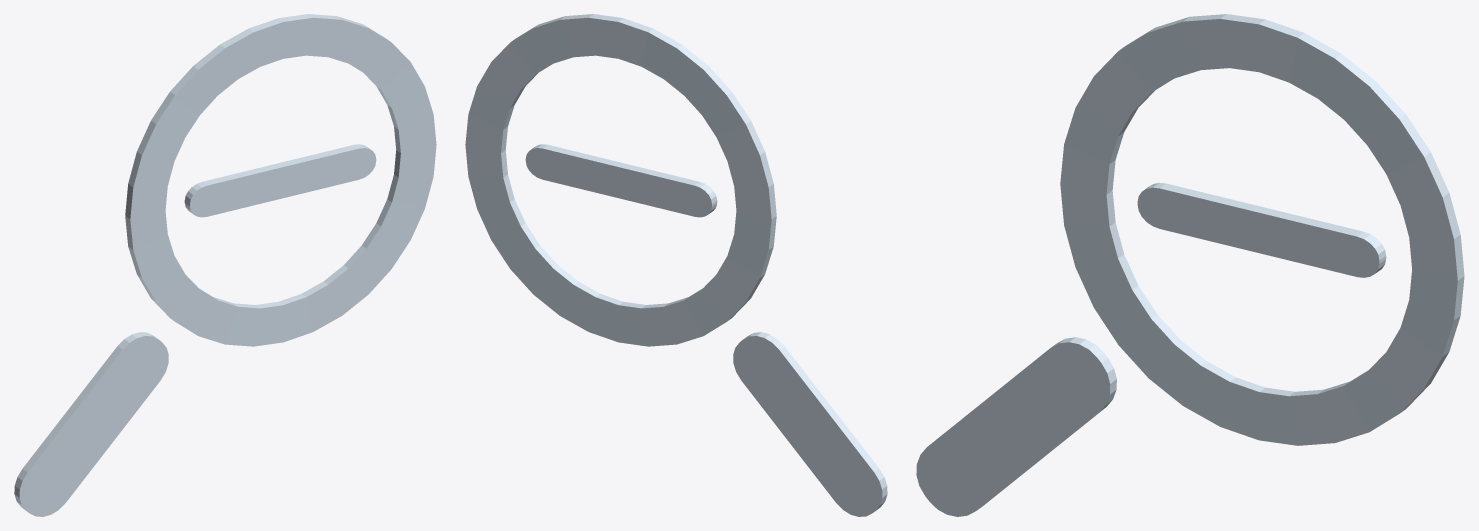
The model's file is Zoom_Out_3D_Icon.fbx.
3 views of the same model, side by side, from view 1: azimuth 30°, elevation 25°; view 2: azimuth 150°, elevation 25°; view 3: azimuth 330°, elevation 25° (orthographic). The views are drawn at different scales.
Parts seen in each view (by area): view 1: Zoom_Out_3D_Icon; view 2: Zoom_Out_3D_Icon; view 3: Zoom_Out_3D_Icon.
Boxes of the visible parts, left/top/right/bottom form: Zoom_Out_3D_Icon: left=14, top=14, right=436, bottom=516; Zoom_Out_3D_Icon: left=465, top=14, right=887, bottom=516; Zoom_Out_3D_Icon: left=916, top=14, right=1464, bottom=516.
Bounding box in the file's own units: 89.25 × 89.25 × 1.93.
